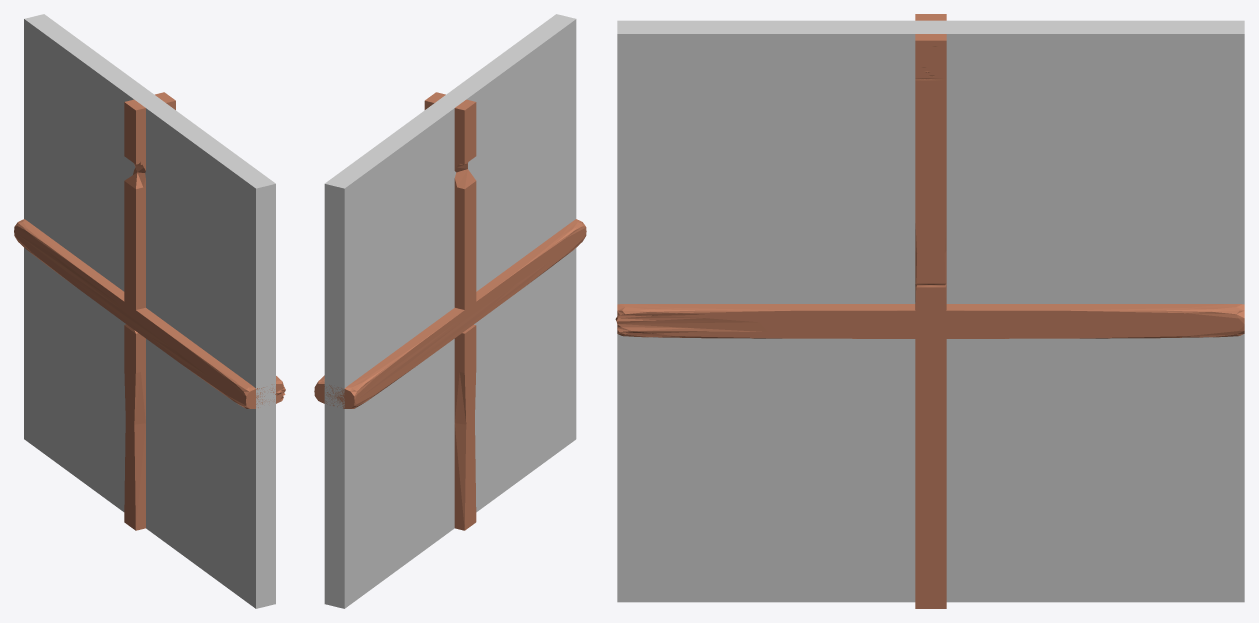
Rendered from Window(Plus).fbx.
3 views of the same model, side by side, from view 1: azimuth 30°, elevation 25°; view 2: azimuth 150°, elevation 25°; view 3: azimuth 270°, elevation 25° (orthographic). The views are drawn at different scales.
Parts seen in each view (by area): view 1: Cube, Cube.001; view 2: Cube, Cube.001; view 3: Cube, Cube.001.
Boxes of the visible parts, x1,y1,x2,y2 form: Cube: [24, 14, 275, 608]; Cube.001: [14, 92, 285, 530]; Cube: [324, 14, 576, 608]; Cube.001: [314, 92, 586, 530]; Cube: [617, 20, 1244, 602]; Cube.001: [615, 14, 1244, 608].
Bounding box in the file's own units: 20.31 × 200 × 201.
